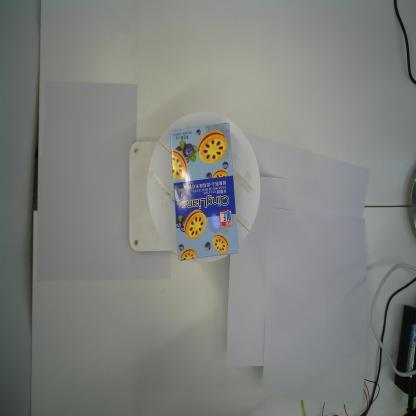Dessert: (169, 122, 240, 262)
